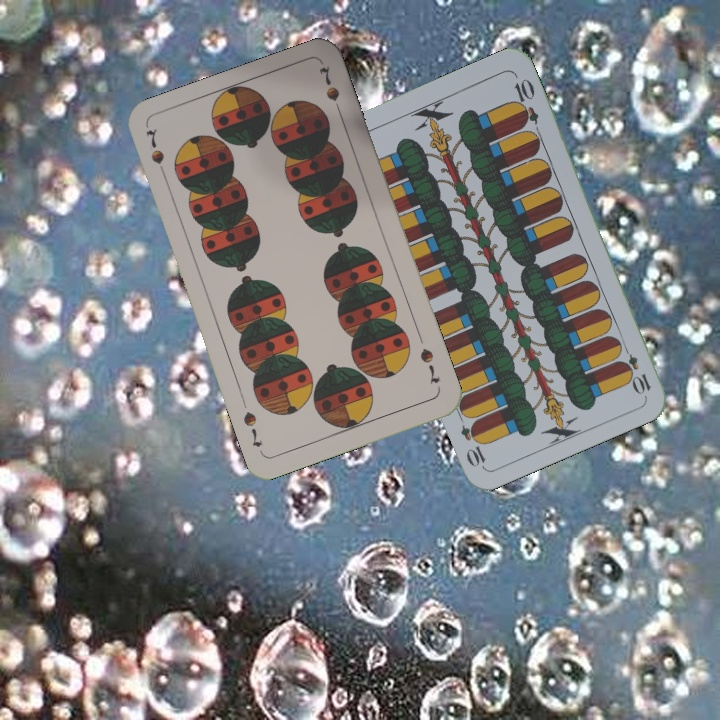E10: (617, 340, 654, 397)
S7: (141, 124, 170, 182), (416, 344, 443, 386)
